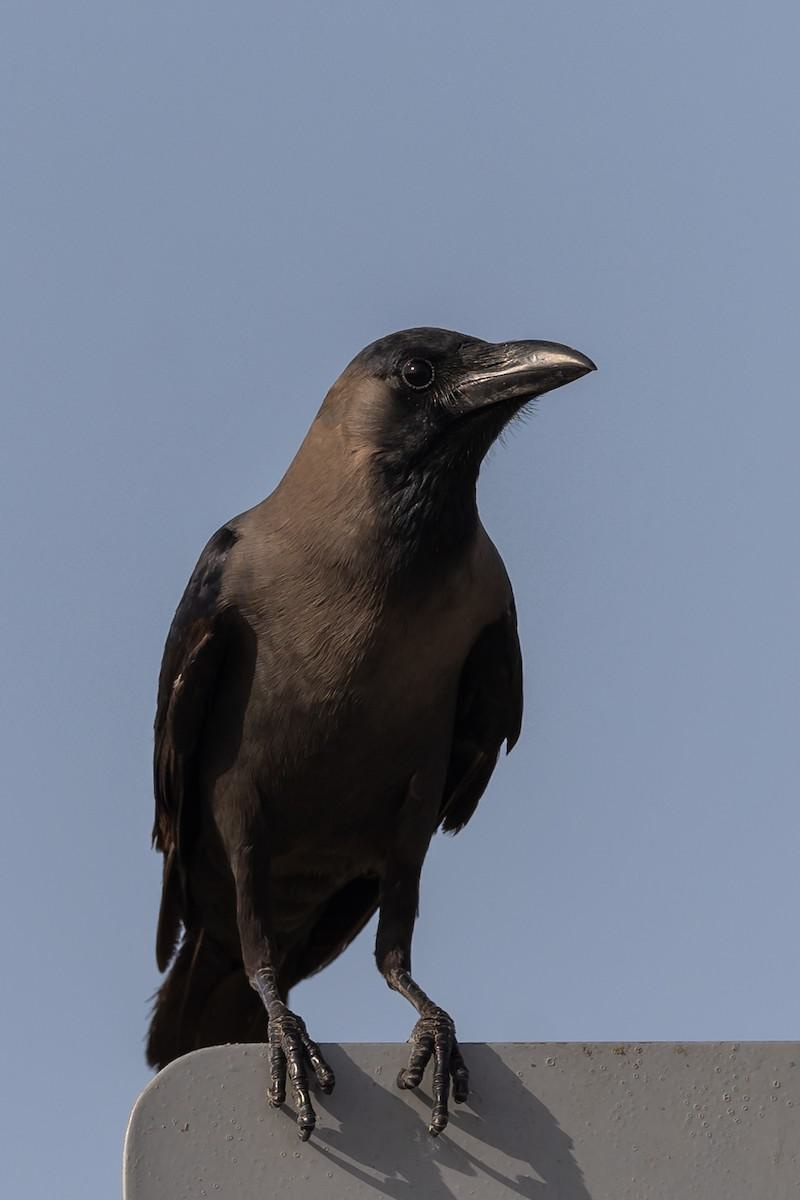crow: (105, 309, 614, 1147)
